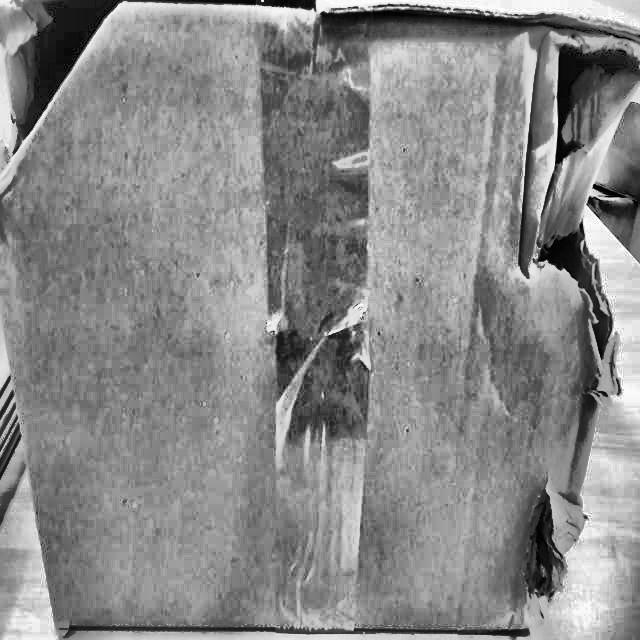box: (0, 0, 639, 639)
hole: (535, 17, 640, 363), (0, 0, 120, 196), (517, 479, 588, 640)
